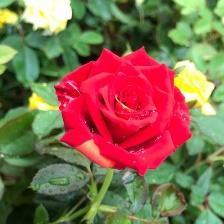rose: (55, 44, 194, 177)
